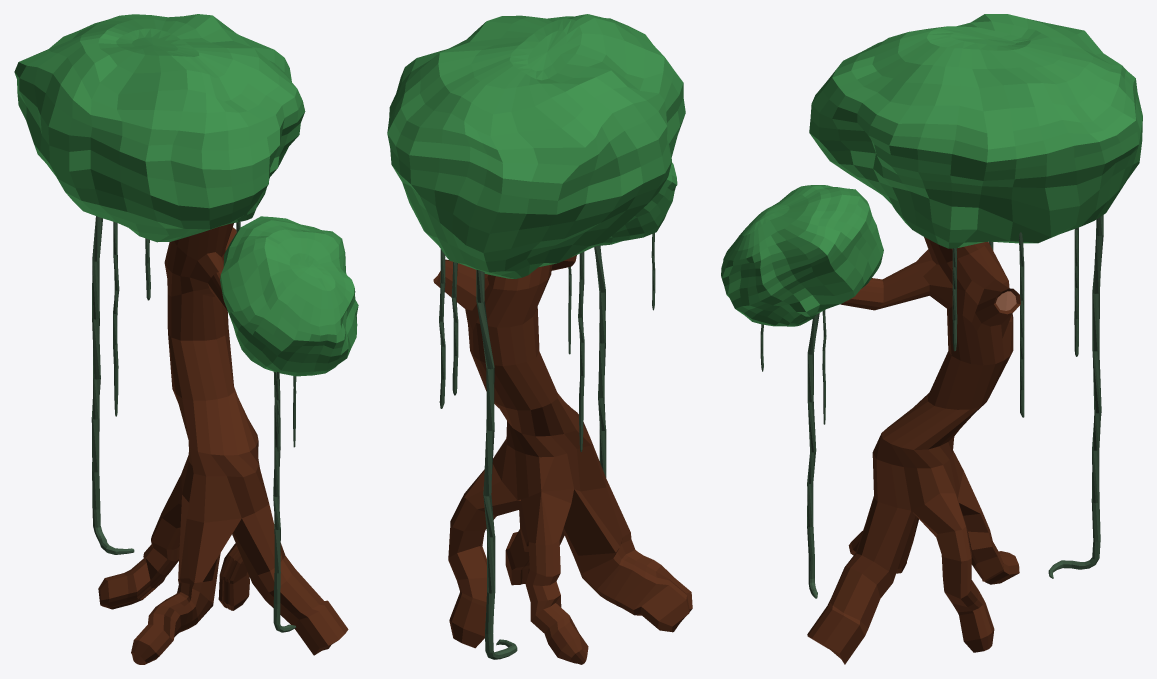
File: Tree2.glb
The picture shows the model from 3 angles, left to right: view 1: azimuth 30°, elevation 25°; view 2: azimuth 150°, elevation 25°; view 3: azimuth 270°, elevation 25°; orthographic projection. The views are drawn at different scales.
Visible parts, largest first — view 1: Tree2-col; view 2: Tree2-col; view 3: Tree2-col.
Part boxes in pixels (<box>): Tree2-col: <box>14,14,358,664</box>; Tree2-col: <box>387,14,692,664</box>; Tree2-col: <box>721,14,1142,664</box>.
Size of the model in its own units: 75.77 by 175 by 114.
1 material, 1 textured.
